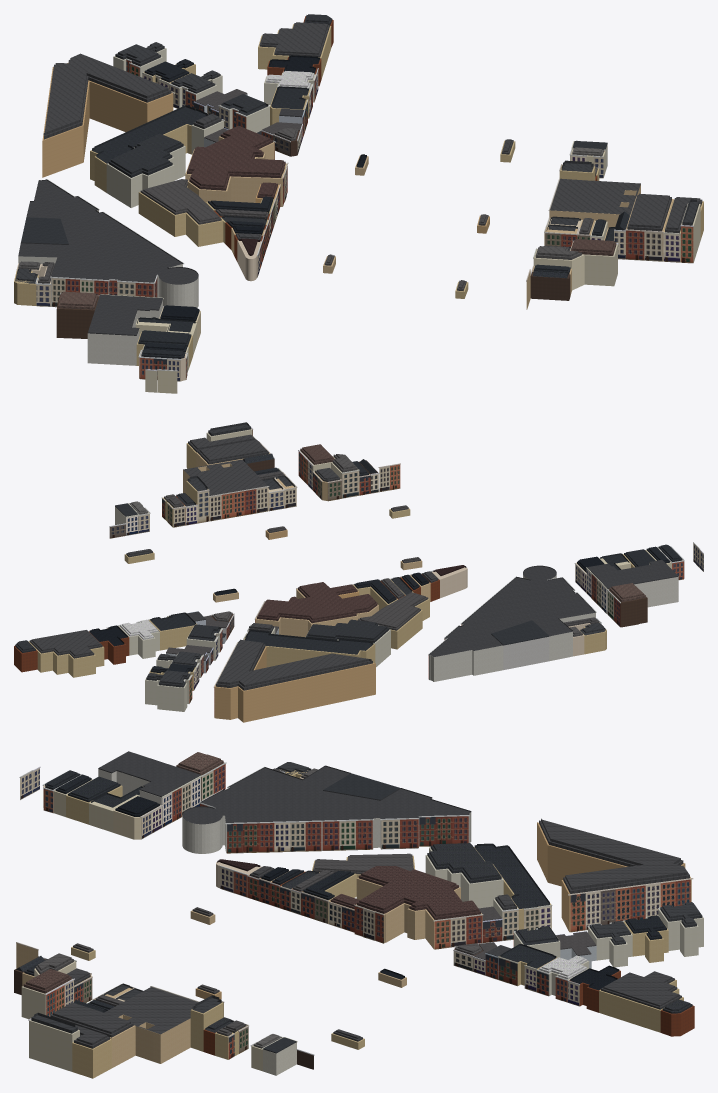
The picture shows the model from 3 angles, top to bottom: view 1: azimuth 30°, elevation 25°; view 2: azimuth 150°, elevation 25°; view 3: azimuth 270°, elevation 25°; orthographic projection. The views are drawn at different scales.
Parts seen in each view (by area): view 1: bldg_47359481_roof, bldg_179702825, bldg_179702825_roof_b, bldg_191782199_roof_b, bldg_12771340_roof, bldg_499602557_roof, bldg_499599875, bldg_499599876, bldg_499602557, bldg_191782199, bldg_499599877_roof_b, bldg_158090666_roof_b (+19 smaller); view 2: bldg_47359481_roof, bldg_179702825, bldg_179702825_roof_b, bldg_47359481, bldg_191782199_roof_b, bldg_12771340_roof, bldg_12771340_facade0, bldg_499602557_roof, bldg_158090666, bldg_499599877_roof_b, bldg_47359479, bldg_498529144 (+21 smaller); view 3: bldg_47359481_roof, bldg_179702825_roof_b, bldg_179702825_facade0, bldg_191782199_roof_b, bldg_47359481_facade3, bldg_179702825, bldg_12771340_roof, bldg_499602557_roof, bldg_191782199, bldg_47359481, bldg_12771340, bldg_499514190 (+39 smaller).
Part boxes in pixels (x1,y1,x2,y2): bldg_47359481_roof: (18, 179, 198, 284); bldg_179702825: (42, 62, 173, 177); bldg_179702825_roof_b: (43, 53, 168, 135); bldg_191782199_roof_b: (189, 126, 283, 187); bldg_12771340_roof: (550, 178, 640, 214); bldg_499602557_roof: (88, 294, 162, 335); bldg_499599875: (138, 186, 223, 246); bldg_499599876: (106, 146, 185, 207); bldg_499602557: (87, 300, 162, 365); bldg_191782199: (185, 136, 286, 206); bldg_499599877_roof_b: (94, 105, 206, 159); bldg_158090666_roof_b: (261, 22, 327, 54); bldg_47359481_roof: (429, 565, 595, 656); bldg_179702825: (214, 646, 375, 722); bldg_179702825_roof_b: (218, 639, 371, 687); bldg_47359481: (429, 575, 595, 681); bldg_191782199_roof_b: (258, 582, 375, 620); bldg_12771340_roof: (183, 459, 267, 495); bldg_12771340_facade0: (208, 486, 269, 521); bldg_499602557_roof: (587, 560, 678, 588); bldg_158090666: (28, 641, 104, 677); bldg_499599877_roof_b: (245, 629, 371, 651); bldg_47359479: (503, 637, 549, 669); bldg_498529144: (145, 673, 191, 711); bldg_47359481_roof: (182, 765, 471, 824); bldg_179702825_roof_b: (541, 818, 687, 889); bldg_179702825_facade0: (568, 878, 693, 932); bldg_191782199_roof_b: (359, 866, 478, 916); bldg_47359481_facade3: (225, 820, 323, 853); bldg_179702825: (537, 822, 691, 932); bldg_12771340_roof: (104, 987, 197, 1034); bldg_499602557_roof: (98, 751, 200, 797); bldg_191782199: (356, 877, 482, 948); bldg_47359481: (182, 798, 471, 853); bldg_12771340: (118, 1014, 190, 1063); bldg_499514190: (29, 1020, 79, 1071).
Size of the model in its own units: 272 by 18.51 by 268.
94 materials, 44 textured.
